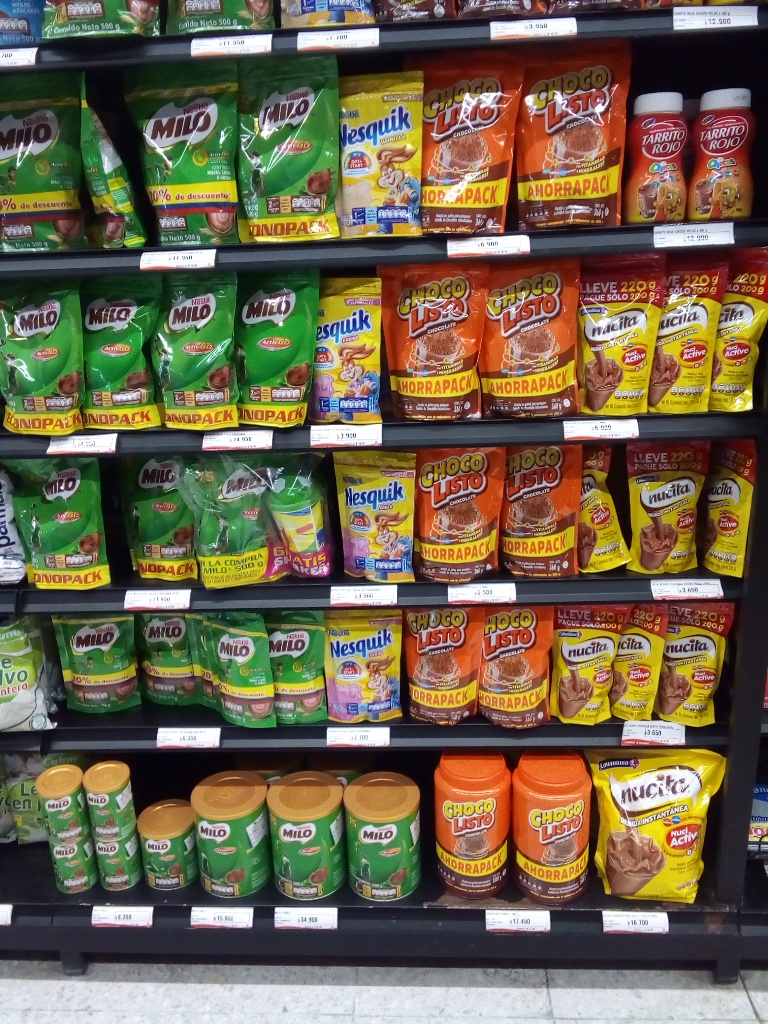COL0170103DYP36000: (405, 53, 526, 233)
COL0170103TRR00100: (434, 751, 514, 901)
COL0170203DYP25000: (135, 612, 201, 708)
COL0170203DYP50000: (1, 74, 90, 251)
COL0170203LAT20000: (35, 766, 90, 846)
COL0170203LAT40000: (137, 803, 201, 891)
COL0170305DYP20000: (317, 277, 385, 426)
COL0170306DYP20000: (338, 76, 422, 239)
